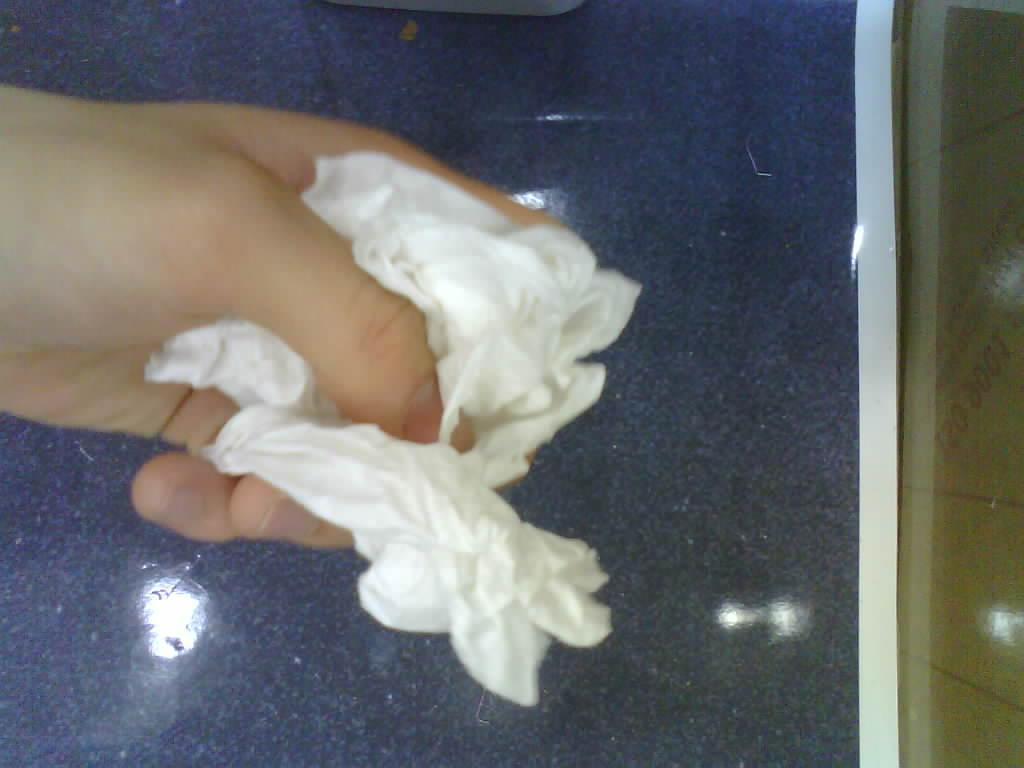paper: (143, 152, 640, 704)
